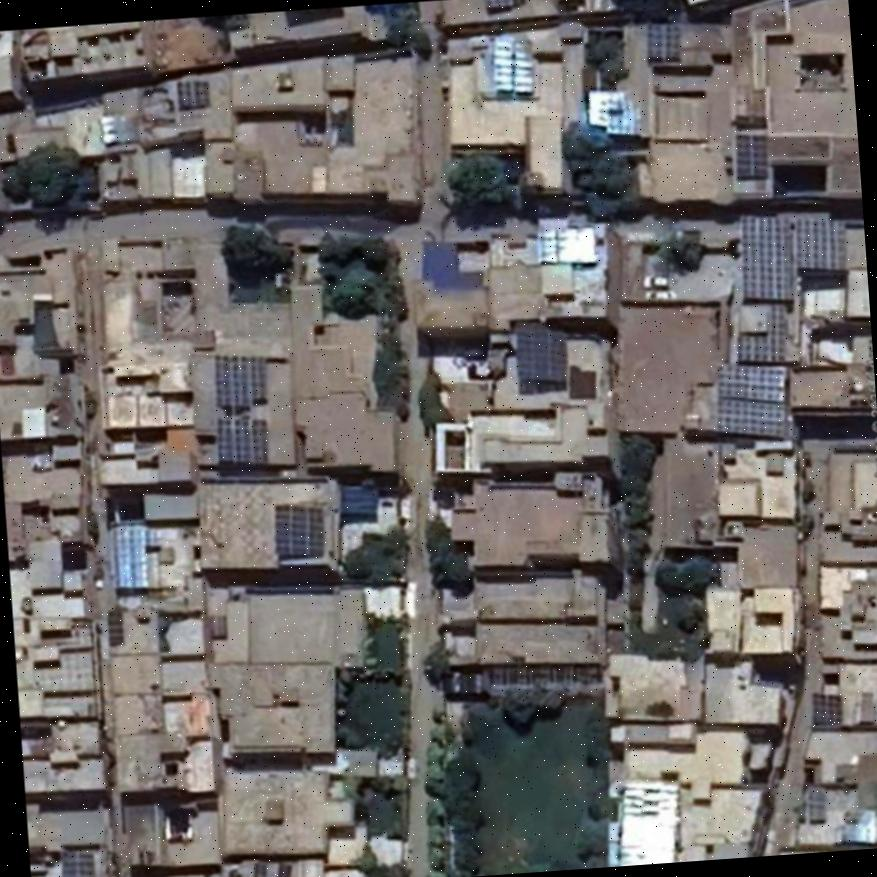Solarpanel: (741, 216, 845, 297), (718, 363, 787, 437), (214, 354, 267, 407), (737, 304, 786, 361), (517, 321, 562, 380), (274, 503, 323, 555), (213, 420, 264, 463), (493, 38, 531, 93), (540, 224, 594, 261), (112, 524, 144, 586), (735, 134, 766, 176), (648, 25, 678, 59), (59, 849, 92, 877), (814, 692, 842, 723), (176, 80, 209, 105), (276, 863, 290, 877), (252, 863, 264, 877), (227, 871, 241, 877)
